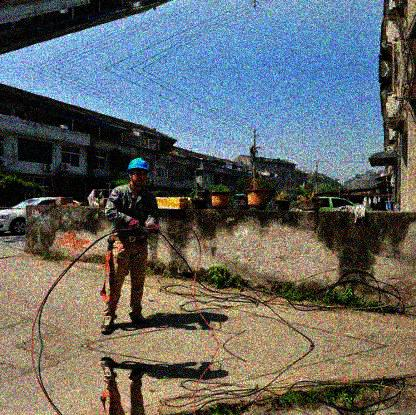helmet: (128, 157, 149, 190)
